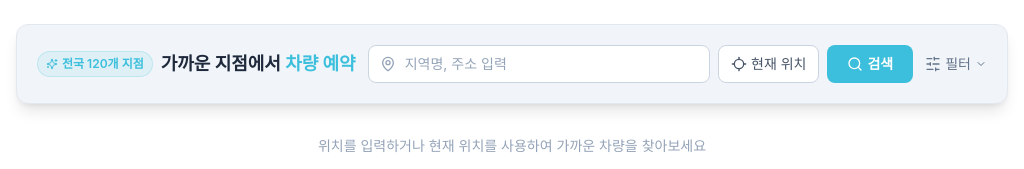
Test: ReservationSection Component › Search functionality › should show toast when searching with empty location
Click the button "검색". click: point(870, 64)
box: [828,45,913,83]
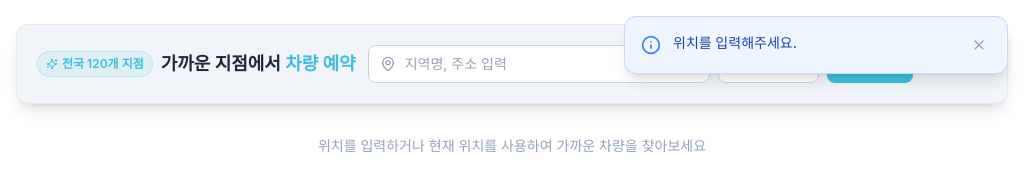
Check: the text "위치를 입력해주세요." is shown, box [673,34,797,51]
